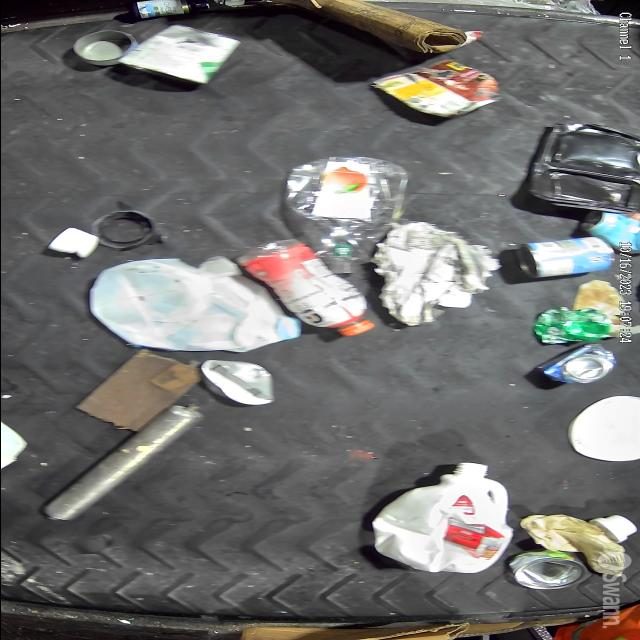can: (370, 58, 504, 118), (122, 25, 244, 87), (514, 235, 614, 280), (195, 359, 278, 407), (537, 342, 619, 387), (508, 550, 588, 592), (531, 306, 613, 342), (576, 210, 640, 256), (71, 28, 137, 66)
milk_jug: (88, 254, 303, 354), (368, 460, 512, 574)
plastic_bottle: (284, 156, 408, 275)
